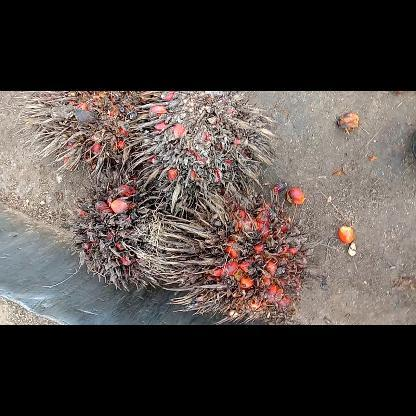Terlalu masak: (158, 178, 328, 324), (128, 90, 280, 212), (63, 163, 193, 293), (13, 91, 158, 177)
